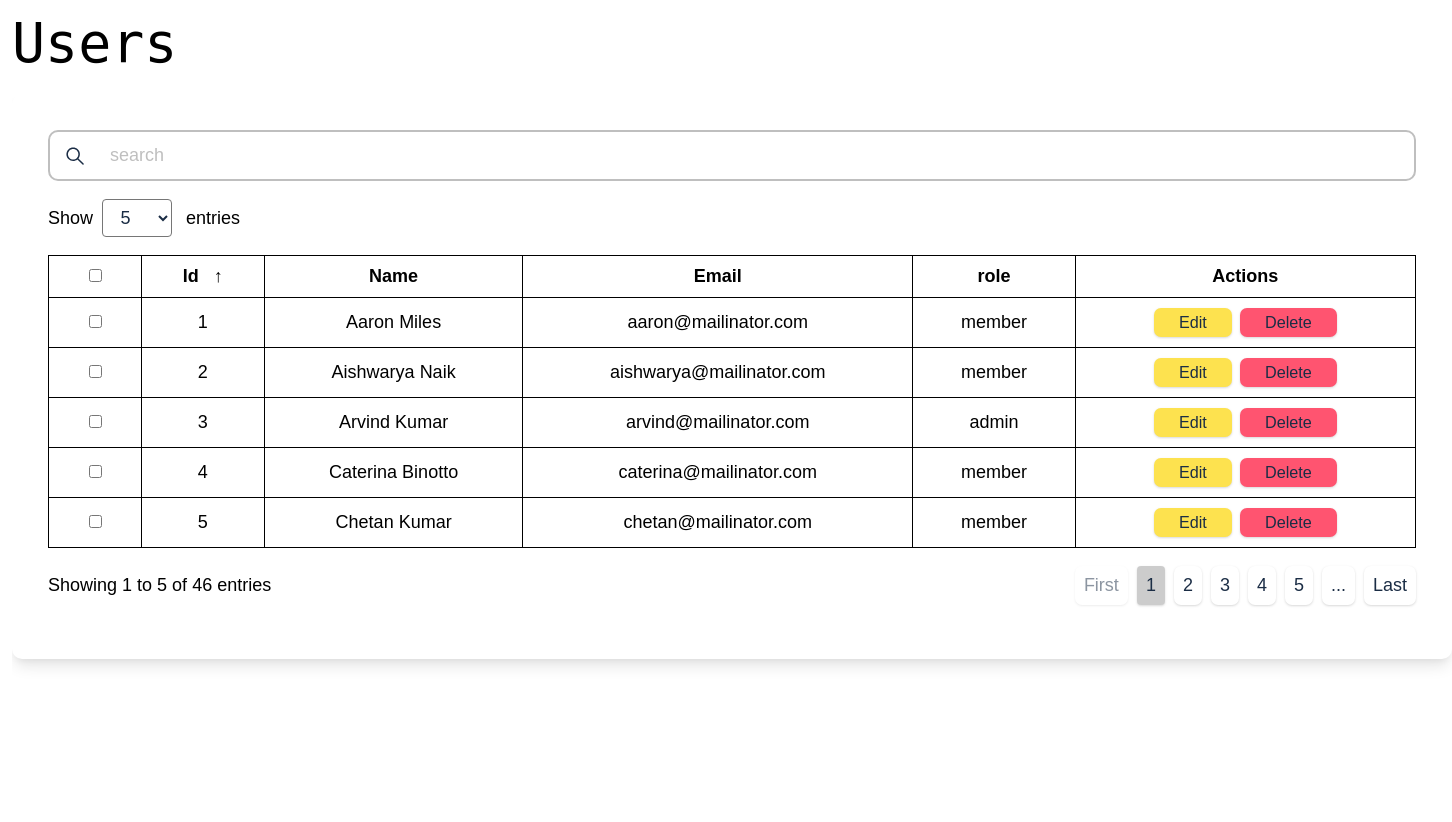
Pagination › goes to the last page
Click the text "Last" at (1390,585), box left=1364, top=566, right=1416, bottom=605
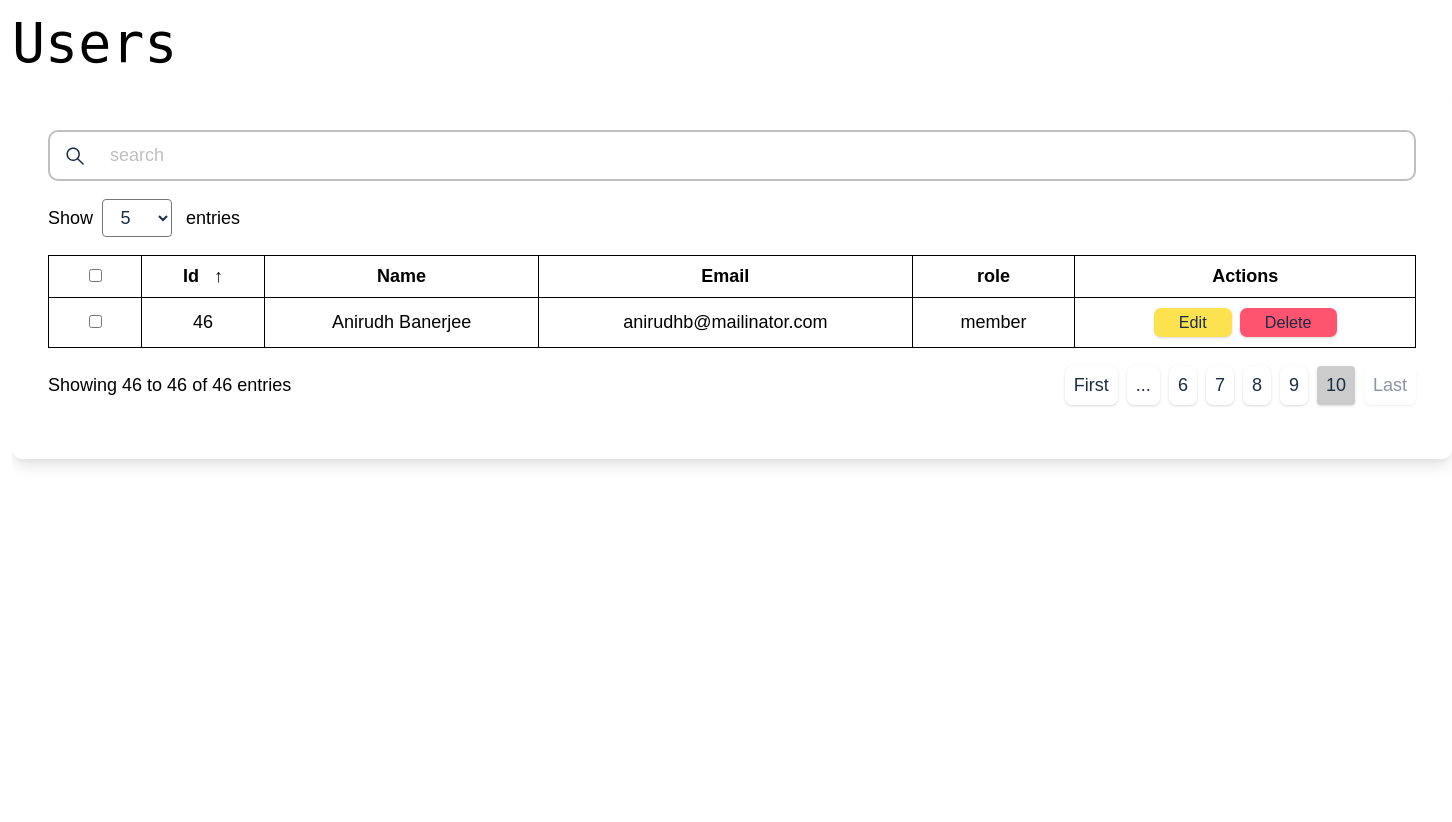
Check: the text "Anirudh Banerjee" is shown, box left=265, top=297, right=539, bottom=347
